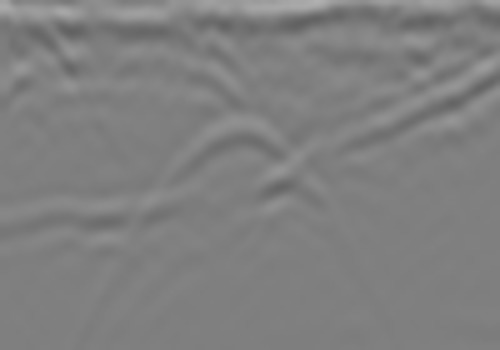hyperbola: (90, 110, 376, 314)
